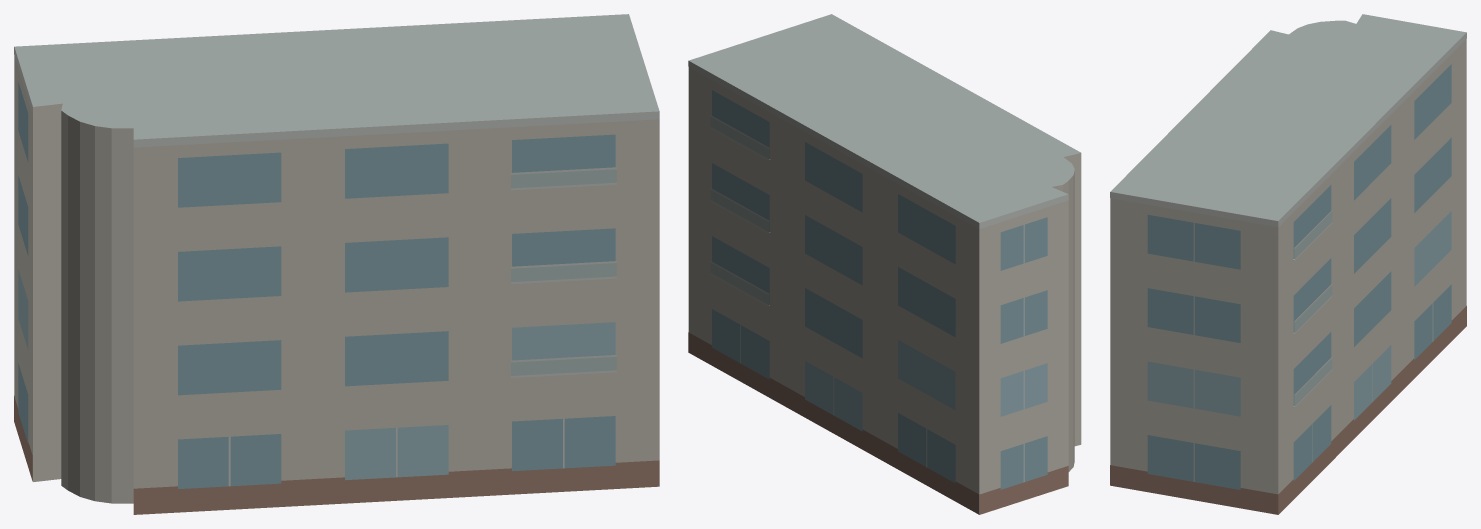
File: survey-upis-32528763.glb
The picture shows the model from 3 angles, left to right: view 1: azimuth 30°, elevation 25°; view 2: azimuth 150°, elevation 25°; view 3: azimuth 270°, elevation 25°; orthographic projection. The views are drawn at different scales.
Visible parts, largest first — view 1: survey-upis-32528763.tmp; view 2: survey-upis-32528763.tmp; view 3: survey-upis-32528763.tmp.
Boxes of the visible parts, x1=… form: survey-upis-32528763.tmp: x1=14, y1=14, x2=659, y2=514; survey-upis-32528763.tmp: x1=688, y1=14, x2=1081, y2=514; survey-upis-32528763.tmp: x1=1110, y1=14, x2=1466, y2=514.
Bounding box in the file's own units: 17.55 × 11.6 × 12.77.
